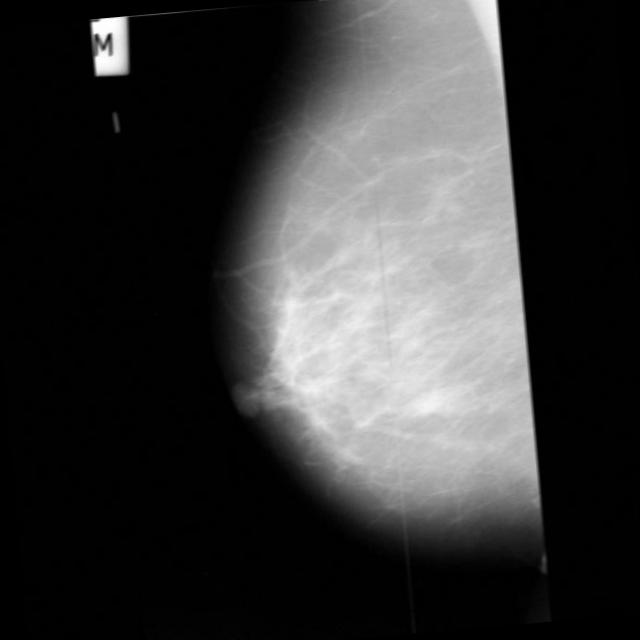MISC: (404, 382, 445, 423)
